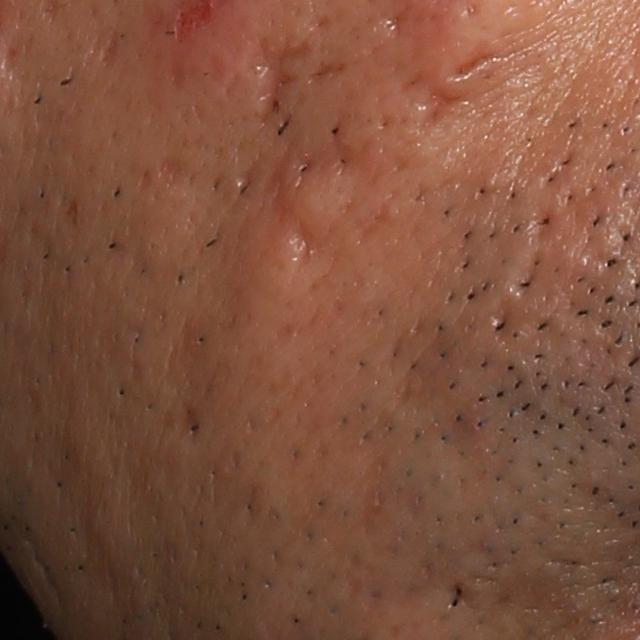atrophic_scar: (163, 306, 235, 425), (258, 38, 323, 127), (444, 38, 534, 85), (413, 93, 474, 136), (291, 223, 320, 264), (306, 58, 348, 84), (100, 32, 124, 71), (158, 153, 183, 183)
hypertrophic_scar: (228, 216, 310, 322), (276, 163, 360, 243)
